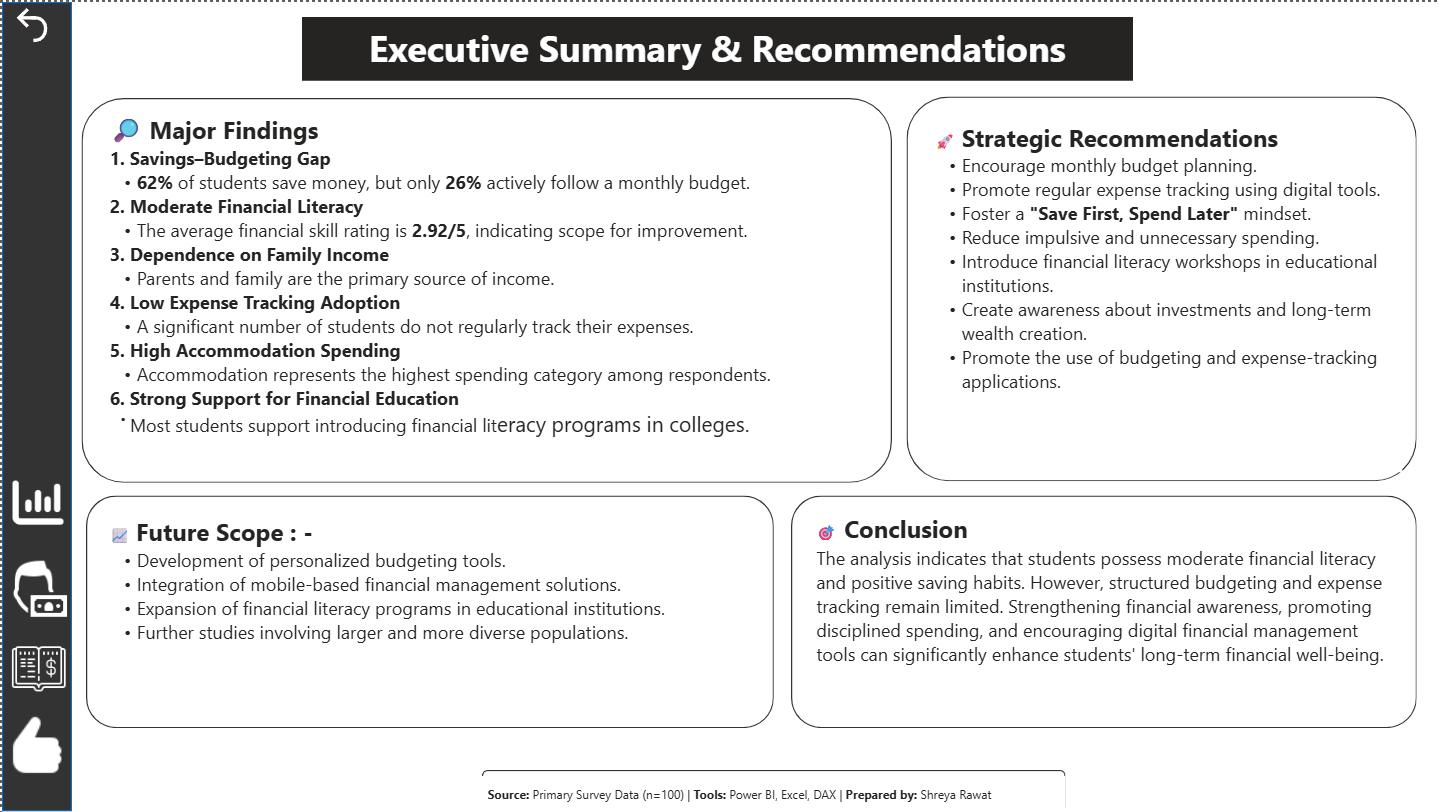

This screenshot's page, from the dashboard's own definition file:
{"tool":"powerbi","page":{"name":"Recommendations","canvas":[1280,720],"ordinal":4},"visuals":[{"type":"shape","box":[427.2,682.8,518.7,37.6],"z":0},{"type":"shape","box":[75.2,438.5,611.4,206.7],"z":1000},{"type":"shape","box":[804.4,83.9,453.6,342],"z":2000},{"type":"shape","box":[70.2,85.2,720.4,342],"z":3000},{"type":"textbox","box":[90.2,94,674.1,324.5],"z":4000},{"type":"textbox","box":[824.4,100.2,421,318.2],"z":5000},{"type":"textbox","box":[90.2,451.1,511.2,144.1],"z":6000},{"type":"textbox","box":[266.7,13.3,738.3,56.7],"z":7000},{"type":"shape","box":[701.6,438.5,556.3,206.7],"z":8000},{"type":"textbox","box":[719.2,444.8,526.2,175.4],"z":9000},{"type":"shape","box":[0,0,62.1,719.2],"z":9500},{"type":"textbox","box":[427.2,687.9,518.7,32.6],"z":10000},{"type":"actionButton","box":[6.5,0,48.7,40.6],"z":11000},{"type":"image","box":[4.9,488.2,56.1,67.6],"z":12000},{"type":"image","box":[8.2,564.1,49.5,56.1],"z":13000},{"type":"image","box":[1.6,425.6,61,39.6],"z":14000},{"type":"image","box":[0,621.9,61,79.2],"z":15000}]}

Visuals, with their boxes on the page's 1280x720 design canvas (x1, y1, x2, y2). These are canvas units, not pixel positions in the 1439x812 screenshot, which may show the page scaled, cropped or inside an application window:
shape: region(427, 683, 946, 720)
shape: region(75, 438, 687, 645)
shape: region(804, 84, 1258, 426)
shape: region(70, 85, 791, 427)
textbox: region(90, 94, 764, 418)
textbox: region(824, 100, 1245, 418)
textbox: region(90, 451, 601, 595)
textbox: region(267, 13, 1005, 70)
shape: region(702, 438, 1258, 645)
textbox: region(719, 445, 1245, 620)
shape: region(0, 0, 62, 719)
textbox: region(427, 688, 946, 720)
actionButton: region(6, 0, 55, 41)
image: region(5, 488, 61, 556)
image: region(8, 564, 58, 620)
image: region(2, 426, 63, 465)
image: region(0, 622, 61, 701)
